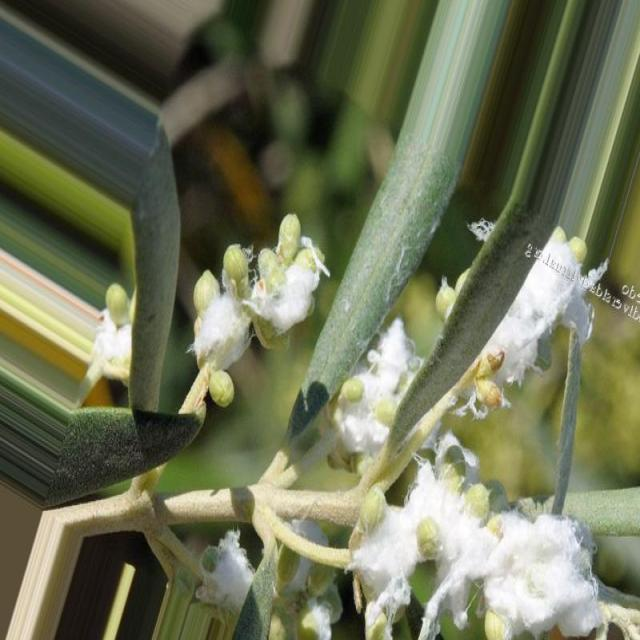Psyllid: (352, 461, 639, 639), (181, 214, 329, 413)
